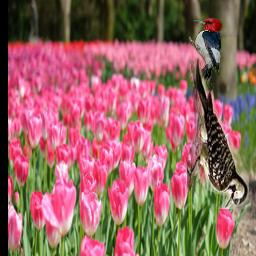Woodpecker: (187, 60, 249, 210), (187, 18, 225, 84)
